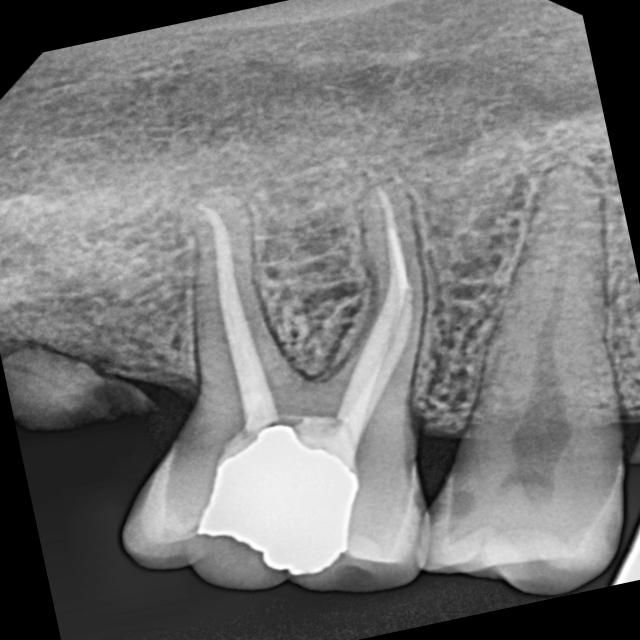RCT: (158, 137, 460, 440)
Restoration: (142, 394, 438, 638)
